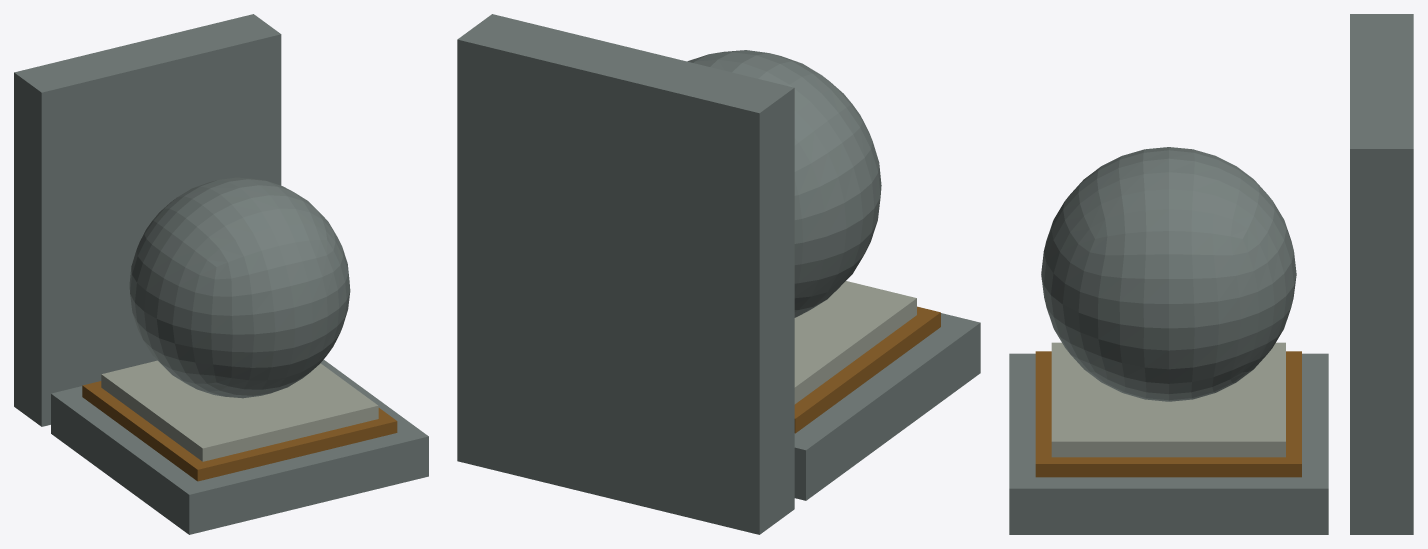
The model's file is MOV_TRAP_ROCK_02.obj.
The picture shows the model from 3 angles, left to right: view 1: azimuth 30°, elevation 25°; view 2: azimuth 150°, elevation 25°; view 3: azimuth 270°, elevation 25°; orthographic projection. The views are drawn at different scales.
Visible parts, largest first — view 1: Part_3, Part_4, Part_0, Part_2, Part_1; view 2: Part_3, Part_4, Part_0, Part_2, Part_1; view 3: Part_4, Part_3, Part_0, Part_2, Part_1.
Boxes of the visible parts, x1,y1,x2,y2 form: Part_3: (14,14,281,426); Part_4: (129,177,350,398); Part_0: (51,359,428,534); Part_2: (101,360,378,461); Part_1: (82,381,397,481); Part_3: (457,14,794,534); Part_4: (687,50,881,317); Part_0: (794,313,980,500); Part_2: (794,281,916,404); Part_1: (794,306,940,433); Part_4: (1041,147,1296,401); Part_3: (1350,14,1413,534); Part_0: (1009,353,1328,534); Part_2: (1051,342,1285,457); Part_1: (1035,351,1301,477).
Size of the model in its own units: 1.5 by 2 by 1.9.
